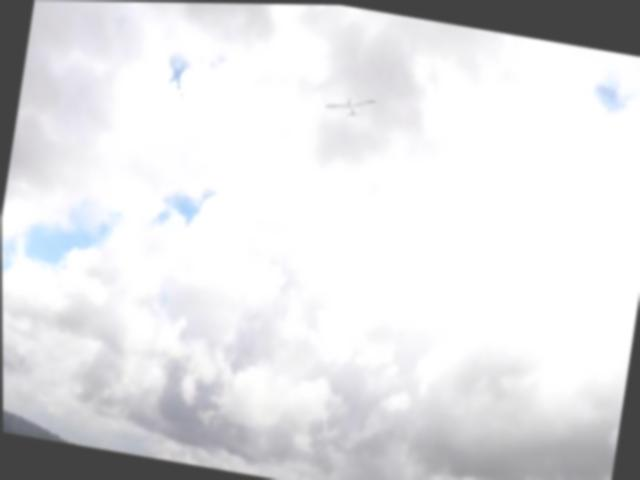iha: (316, 87, 379, 128)
